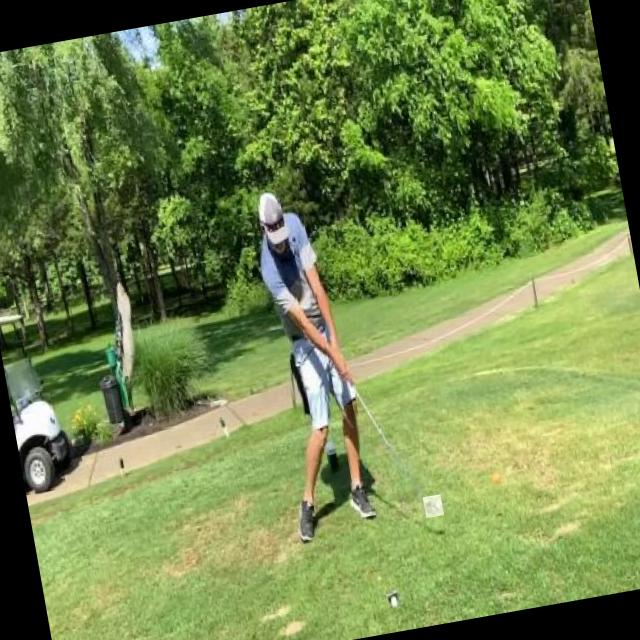club head: (422, 493, 443, 518)
